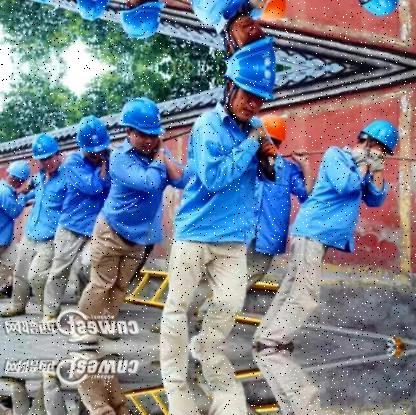helmet: (223, 68, 280, 121), (223, 14, 280, 67), (122, 93, 166, 153), (354, 116, 403, 164), (121, 0, 166, 42), (77, 115, 115, 163), (261, 112, 288, 155), (33, 131, 63, 169), (354, 0, 404, 19), (76, 0, 115, 20), (9, 160, 34, 189), (261, 0, 289, 23)
